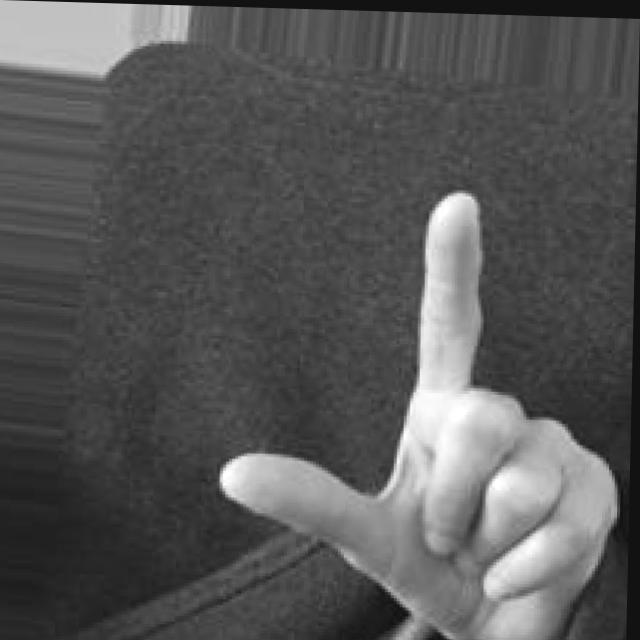L: (207, 177, 627, 640)
